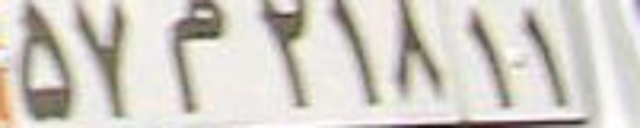1: (521, 8, 573, 106), (330, 1, 379, 104), (463, 8, 511, 106)
2: (259, 0, 311, 108)
5: (15, 1, 75, 121)
7: (75, 1, 134, 120)
8: (385, 0, 446, 97)
mim: (161, 0, 231, 115)
